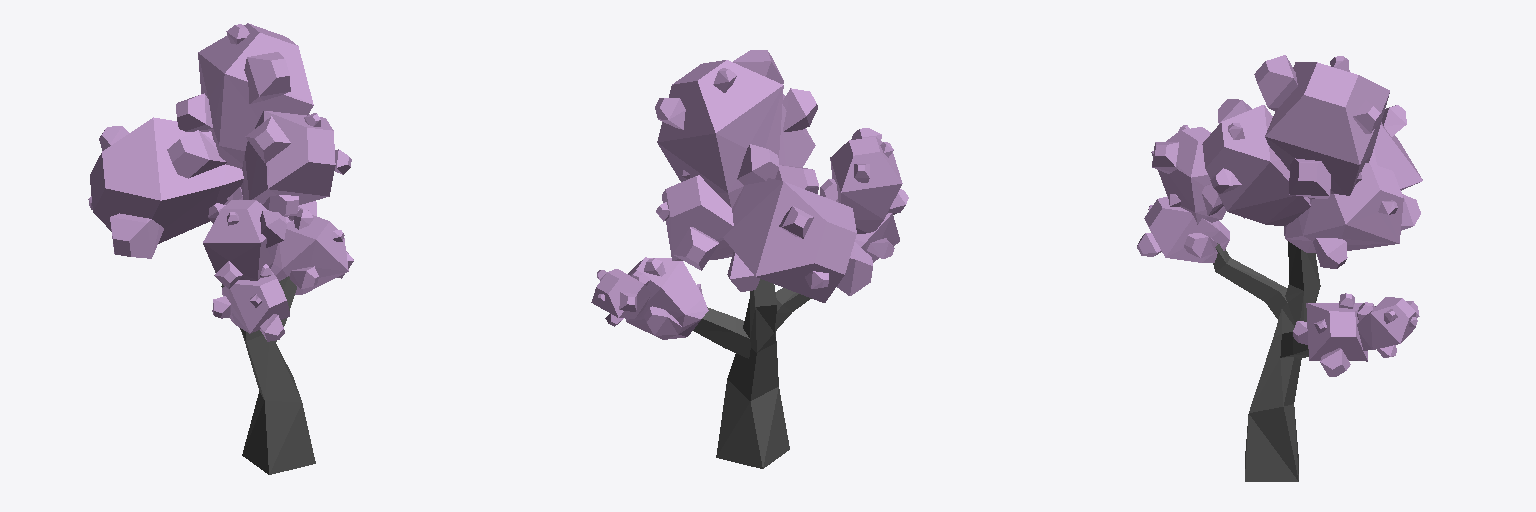
The model's file is tree4.obj.
3 renders of one model, left to right at view 1: azimuth 30°, elevation 25°; view 2: azimuth 150°, elevation 25°; view 3: azimuth 270°, elevation 25°, orthographic.
Visible parts, largest first — view 1: crown, Tree; view 2: crown, Tree; view 3: crown, Tree.
Part boxes in pixels (bbox=[...]): crown: bbox=[88, 23, 353, 341]; Tree: bbox=[221, 276, 315, 474]; crown: bbox=[591, 50, 908, 339]; Tree: bbox=[693, 279, 811, 468]; crown: bbox=[1137, 55, 1422, 376]; Tree: bbox=[1213, 241, 1320, 481].
Bounding box in the file's own units: 7.91 × 12.5 × 7.92.